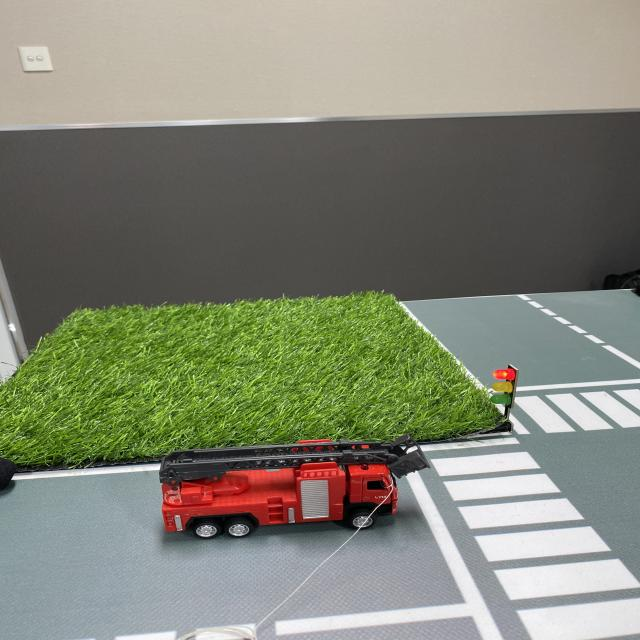Fire Truck: (156, 428, 434, 542)
